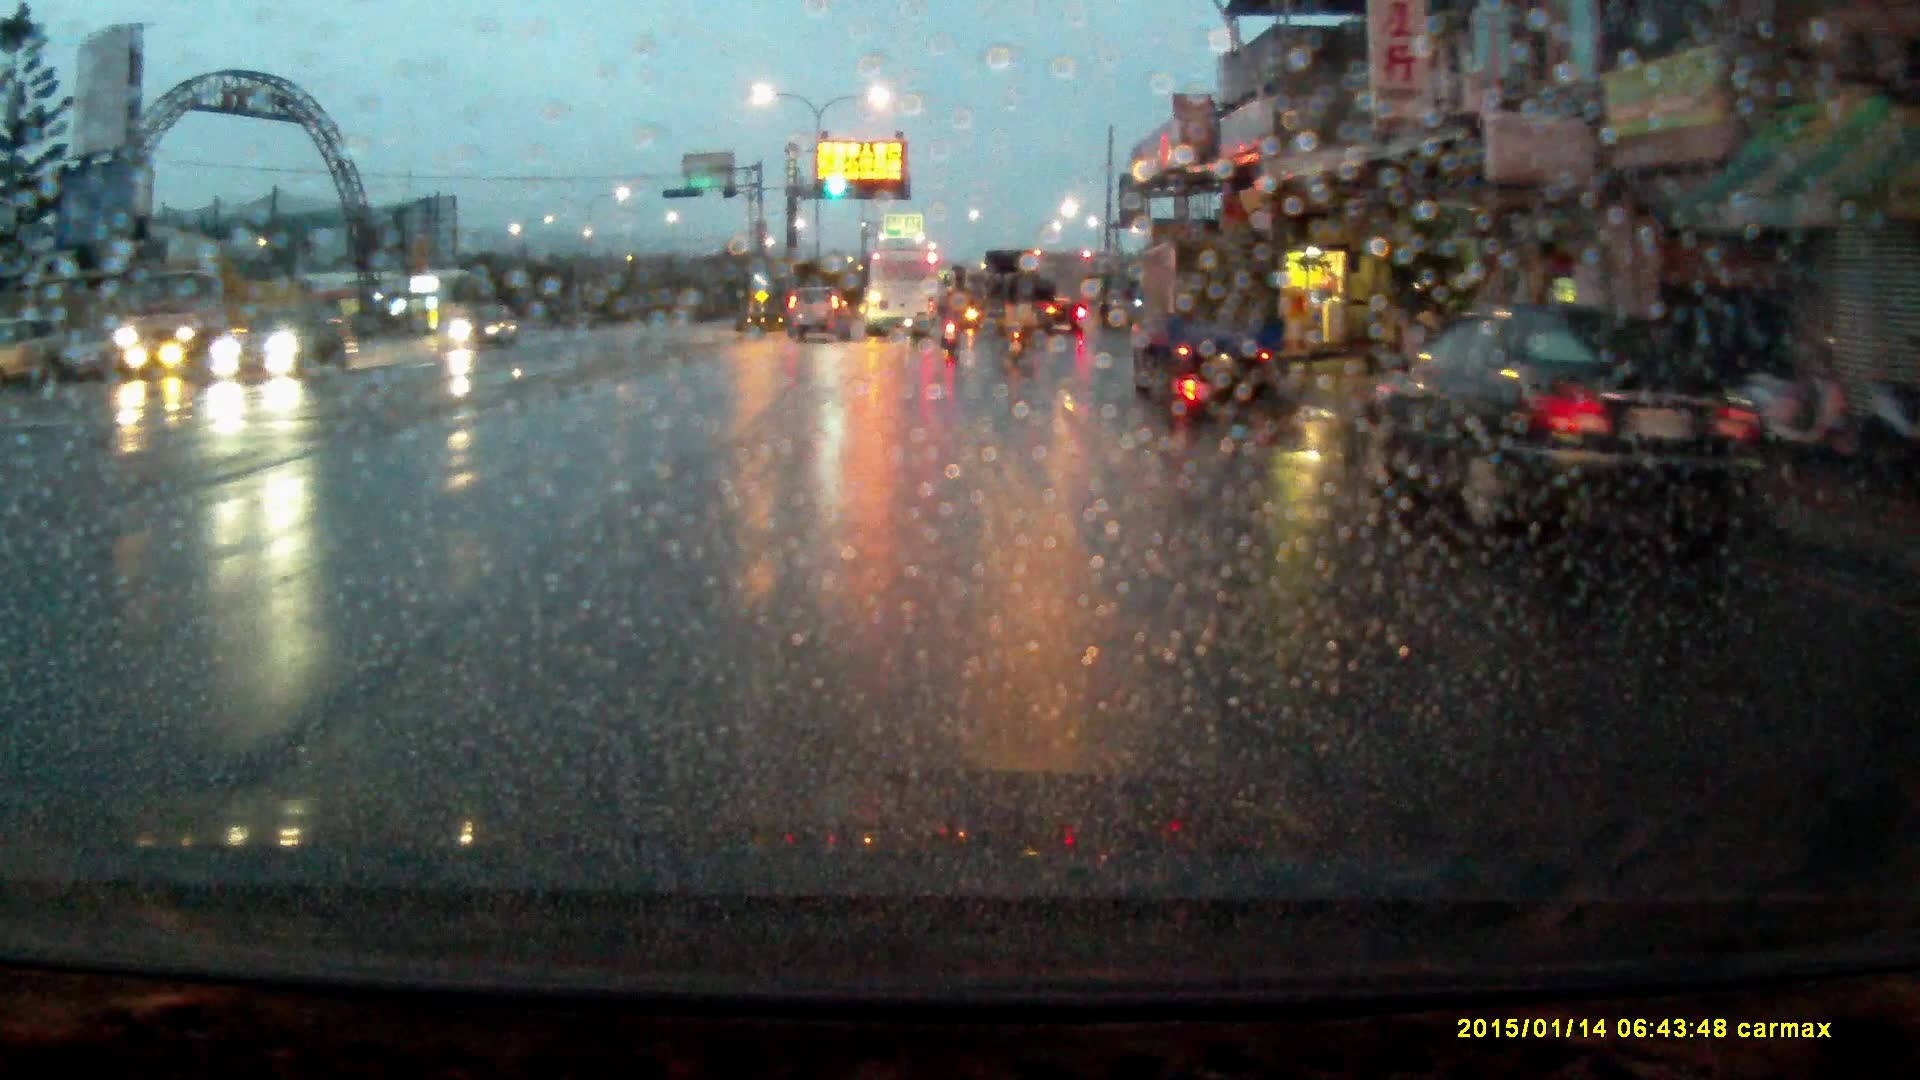rider: (998, 276, 1036, 359), (935, 284, 969, 354)
vehicle: (1366, 299, 1795, 546), (116, 254, 332, 375), (1128, 232, 1287, 386), (211, 311, 356, 386), (1, 310, 81, 390), (868, 246, 938, 338), (988, 252, 1055, 339), (441, 301, 523, 350), (787, 276, 852, 337)
